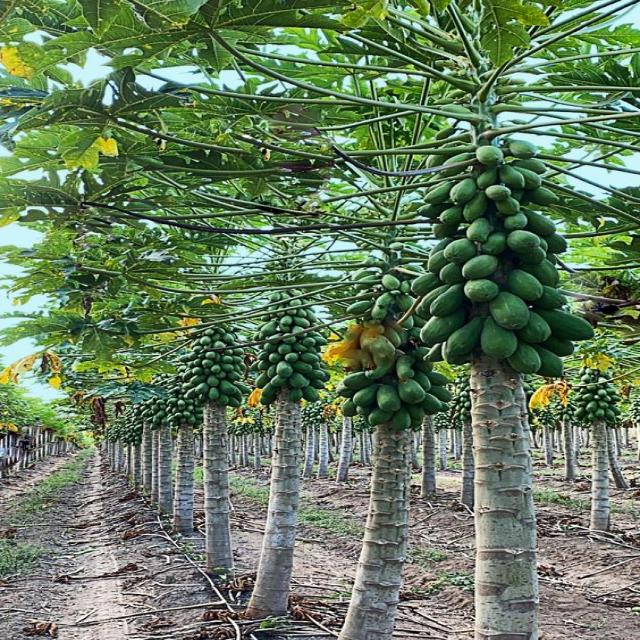Papaya-Tree: (38, 0, 313, 635), (406, 0, 640, 640), (310, 14, 418, 623)
